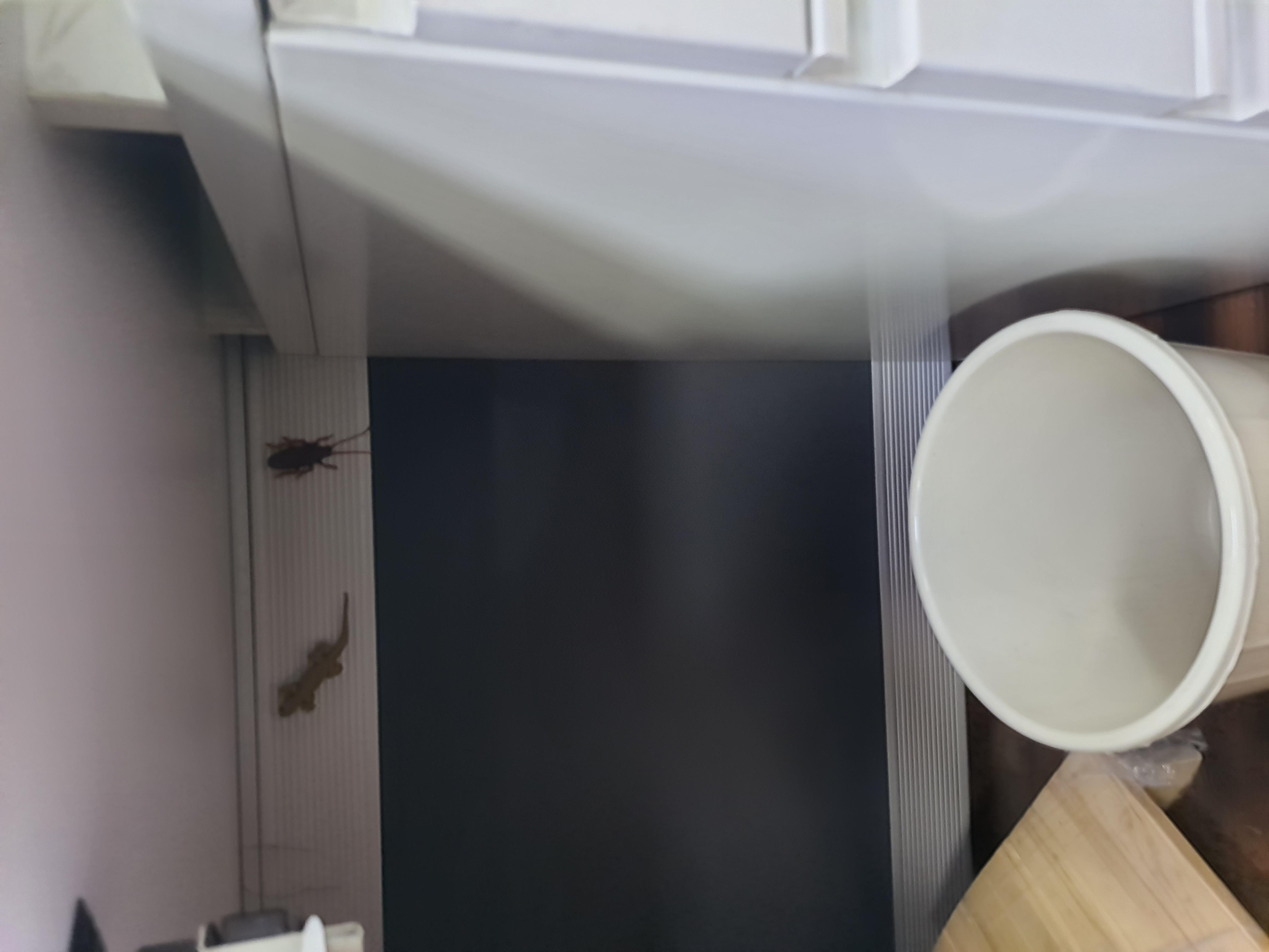cockroach: (597, 198, 712, 270)
lizard: (297, 194, 478, 267)
